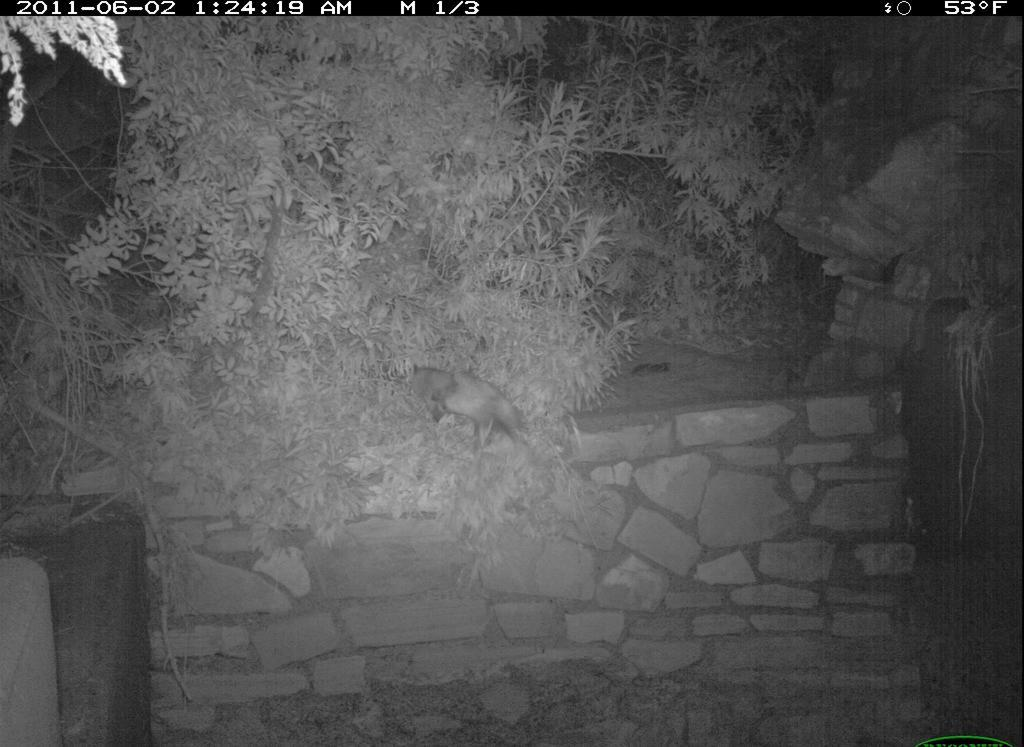opossum: (404, 361, 530, 455)
